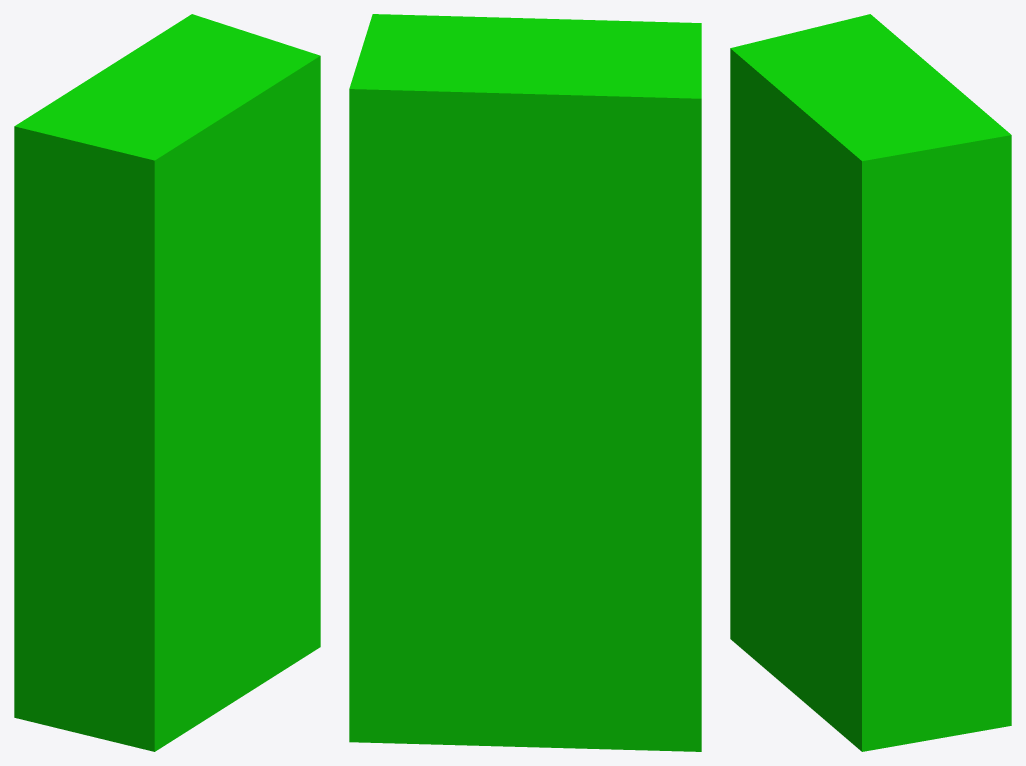
3 renders of one model, left to right at view 1: azimuth 30°, elevation 25°; view 2: azimuth 150°, elevation 25°; view 3: azimuth 270°, elevation 25°, orthographic. The views are drawn at different scales.
Parts seen in each view (by area): view 1: Circle.012; view 2: Circle.012; view 3: Circle.012.
Boxes of the visible parts, left/top/right/bottom form: Circle.012: left=14, top=14, right=320, bottom=751; Circle.012: left=349, top=14, right=701, bottom=751; Circle.012: left=730, top=14, right=1011, bottom=751.
Size of the model in its own units: 1093 by 2044 by 883.
